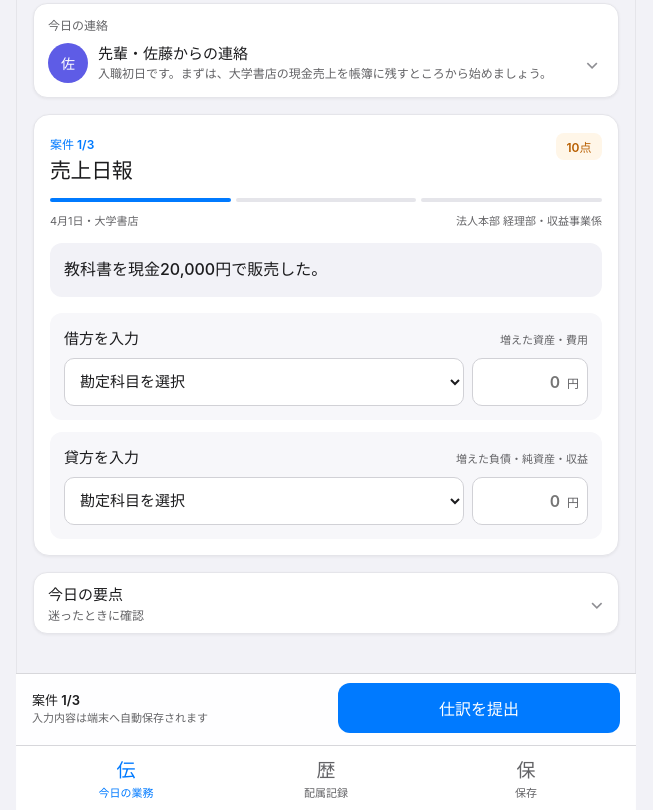
Test case: Campus Ledger app › reveals today's takeaway on demand
(page scrolled)
Check: the text "資産と費用の増加は借方、負債・純資産・収益の増加は貸方です。" is not shown
Click the button with aria-label "今日の要点を表示".
click(86, 594)  # box left=34, top=573, right=618, bottom=633
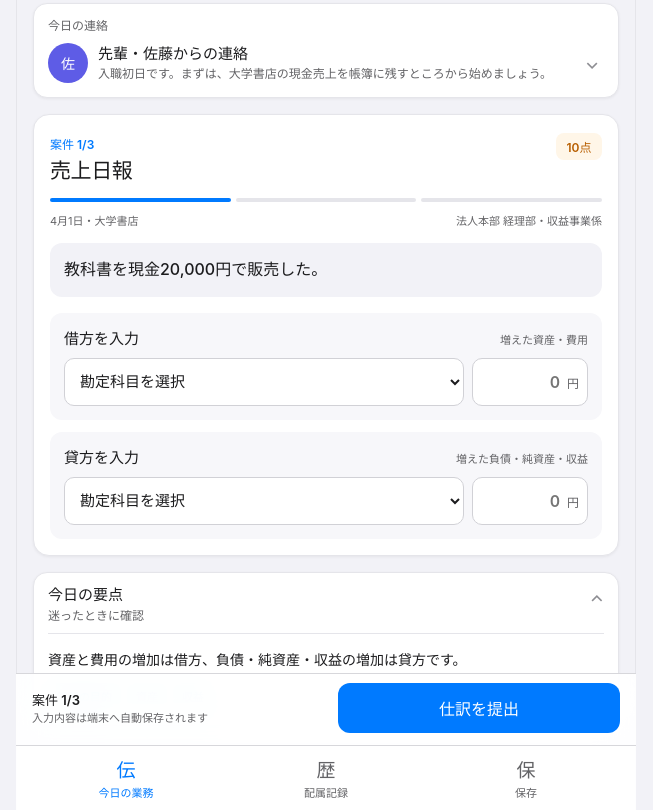
Check: the button named "今日の要点を表示" is expanded, box left=34, top=573, right=618, bottom=633
Check: the text "資産と費用の増加は借方、負債・純資産・収益の増加は貸方です。" is shown, box left=48, top=651, right=467, bottom=668
